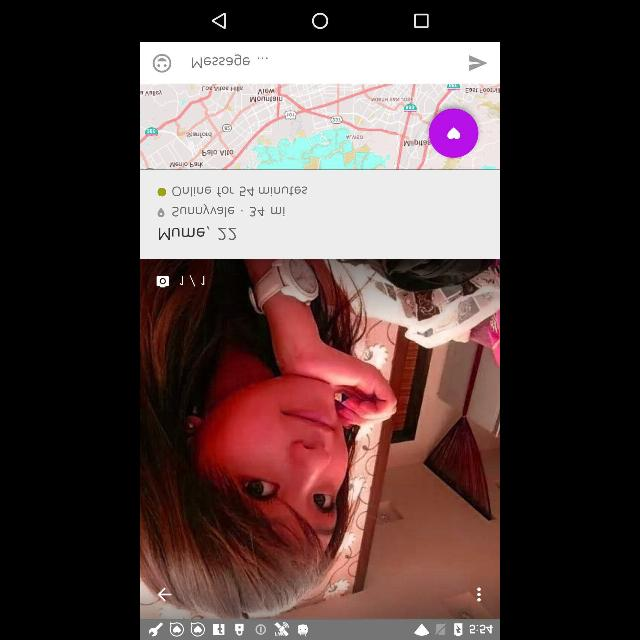button: (428, 109, 478, 158)
icon: (152, 54, 172, 72), (312, 11, 328, 29), (156, 586, 172, 602), (469, 54, 485, 70), (414, 12, 428, 30), (213, 14, 227, 28), (476, 586, 482, 602), (158, 187, 166, 197), (158, 208, 166, 216)
image: (141, 258, 499, 618)
input: (140, 42, 500, 84)
map: (140, 85, 500, 169)
panel: (140, 0, 500, 42)
text: (172, 186, 306, 197), (158, 226, 238, 240), (192, 54, 270, 68), (172, 204, 234, 218), (251, 205, 287, 217)
uppertaskbar: (140, 620, 500, 640)
